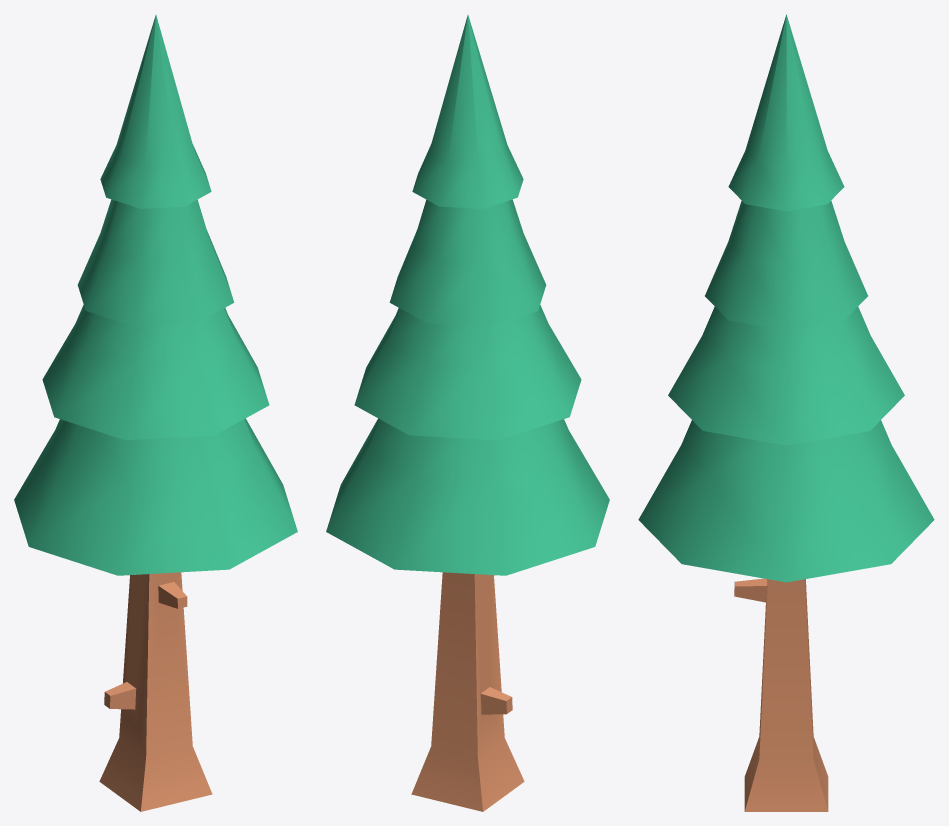
The model's file is treeHigh.obj.
The picture shows the model from 3 angles, left to right: view 1: azimuth 30°, elevation 25°; view 2: azimuth 150°, elevation 25°; view 3: azimuth 270°, elevation 25°; orthographic projection.
Visible parts, largest first — view 1: treeHigh; view 2: treeHigh; view 3: treeHigh.
Part boxes in pixels (x1,y1,x2,y2): treeHigh: (14,15,297,811); treeHigh: (326,15,609,811); treeHigh: (638,14,934,811).
Size of the model in its own units: 1.02 by 2.97 by 1.02.
